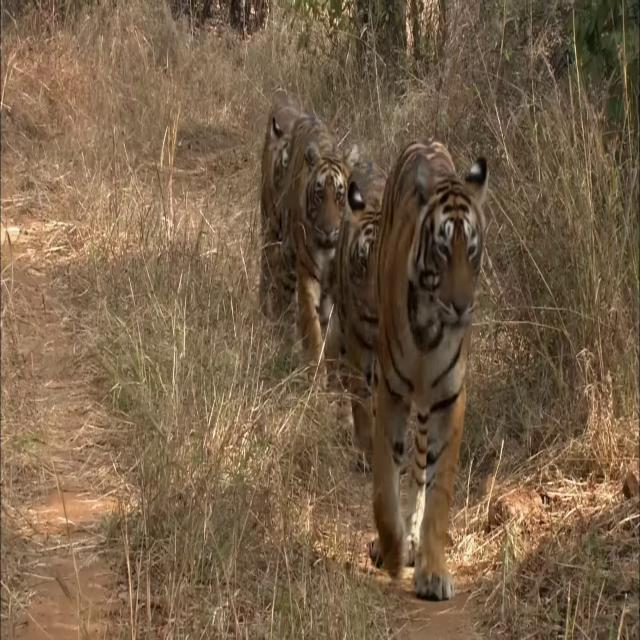tiger: (372, 137, 490, 600), (288, 111, 352, 397)
